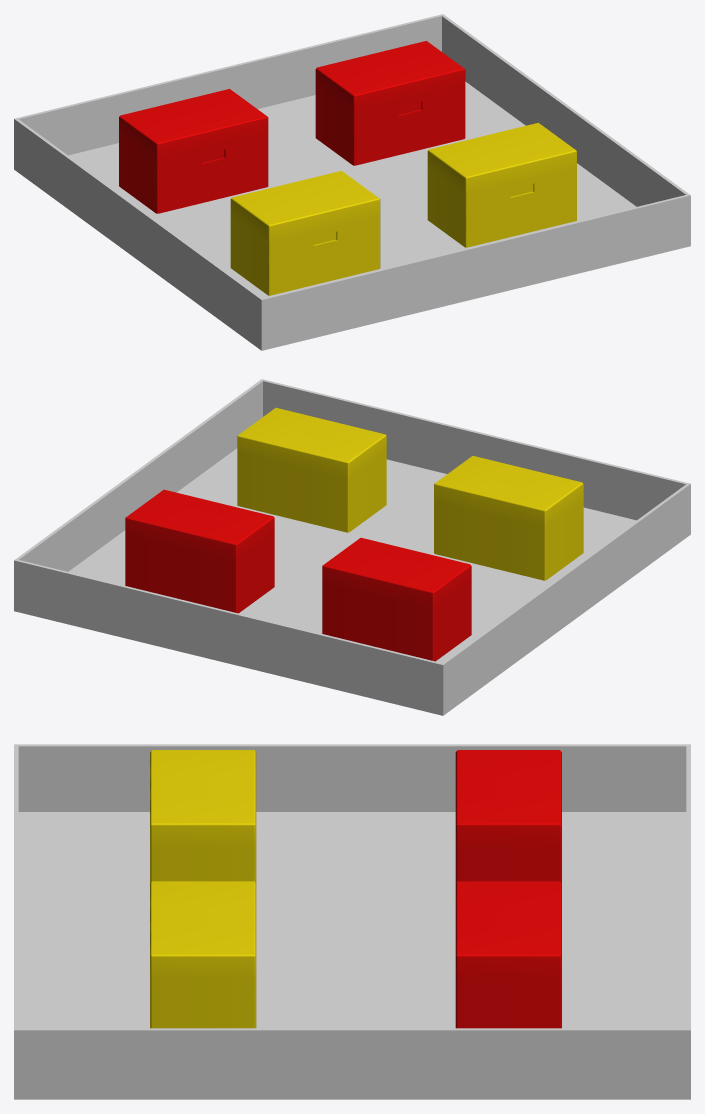
The model's file is DroneScrapyard.fbx.
The picture shows the model from 3 angles, top to bottom: view 1: azimuth 30°, elevation 25°; view 2: azimuth 150°, elevation 25°; view 3: azimuth 270°, elevation 25°; orthographic projection. The views are drawn at different scales.
Parts seen in each view (by area): view 1: ScrapyardCompound, DroneScrapyard_YDump1, DroneScrapyard_RDump2, DroneScrapyard_RDump1, DroneScrapyard_YDump2; view 2: ScrapyardCompound, DroneScrapyard_YDump2, DroneScrapyard_YDump1, DroneScrapyard_RDump1, DroneScrapyard_RDump2; view 3: ScrapyardCompound, DroneScrapyard_RDump2, DroneScrapyard_YDump2, DroneScrapyard_RDump1, DroneScrapyard_YDump1.
Part boxes in pixels (x1,y1,x2,y2): ScrapyardCompound: [14, 14, 690, 350]; DroneScrapyard_YDump1: [230, 171, 380, 295]; DroneScrapyard_RDump2: [315, 41, 465, 165]; DroneScrapyard_RDump1: [119, 89, 268, 213]; DroneScrapyard_YDump2: [427, 122, 576, 247]; ScrapyardCompound: [14, 379, 690, 715]; DroneScrapyard_YDump2: [237, 407, 386, 532]; DroneScrapyard_YDump1: [434, 456, 583, 580]; DroneScrapyard_RDump1: [322, 537, 471, 661]; DroneScrapyard_RDump2: [125, 489, 274, 613]; ScrapyardCompound: [14, 744, 690, 1099]; DroneScrapyard_RDump2: [455, 881, 561, 1028]; DroneScrapyard_YDump2: [150, 881, 256, 1028]; DroneScrapyard_RDump1: [455, 750, 561, 882]; DroneScrapyard_YDump1: [150, 750, 256, 882].
Bounding box in the file's own units: 383 × 63.87 × 383.
